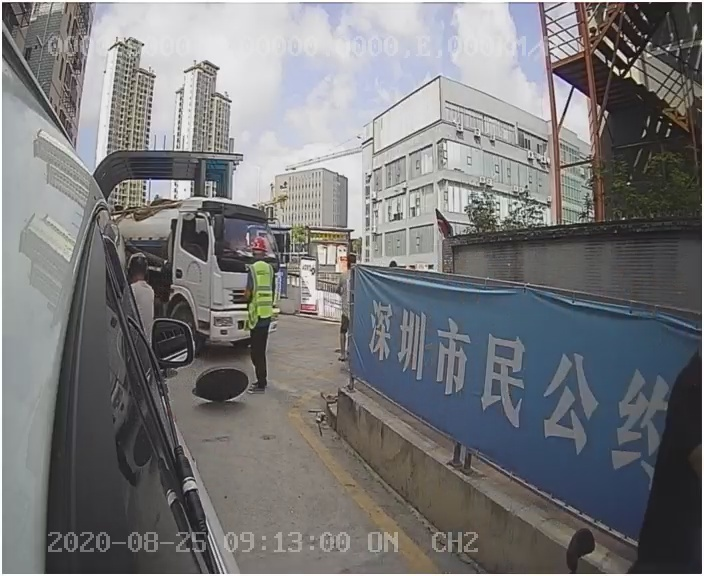person: (237, 236, 282, 396)
